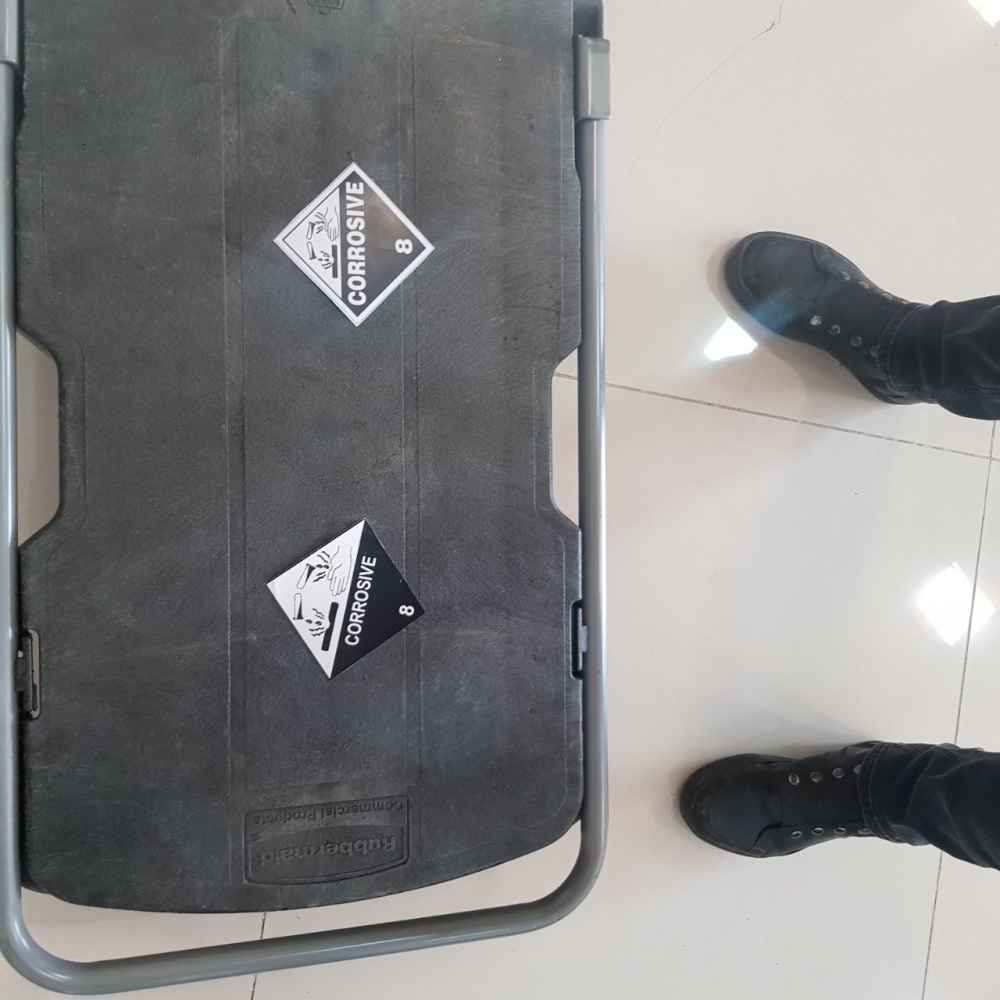Corrosive: (272, 161, 436, 328), (264, 516, 426, 680)
